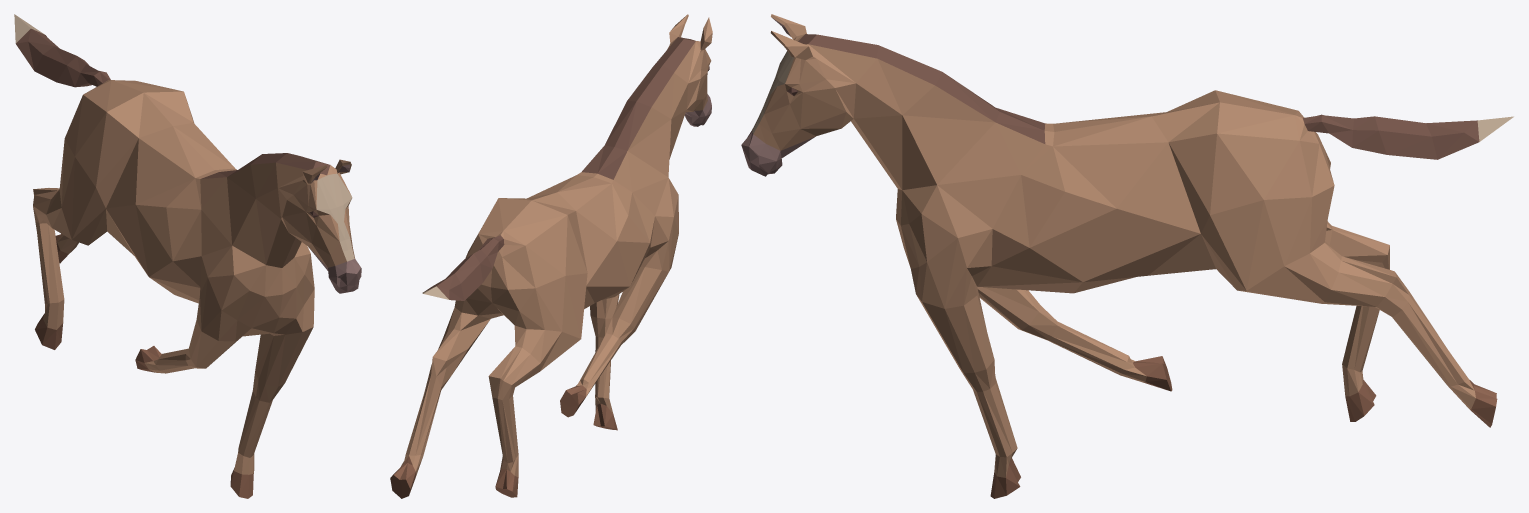
Rendered from Horse.glb.
The picture shows the model from 3 angles, left to right: view 1: azimuth 30°, elevation 25°; view 2: azimuth 150°, elevation 25°; view 3: azimuth 270°, elevation 25°; orthographic projection. The views are drawn at different scales.
Parts seen in each view (by area): view 1: mesh_0; view 2: mesh_0; view 3: mesh_0.
Part boxes in pixels (<box>): mesh_0: <box>14,14,361,498</box>; mesh_0: <box>390,14,712,498</box>; mesh_0: <box>741,14,1513,498</box>.
Size of the model in its own units: 65.4 by 198 by 294.
